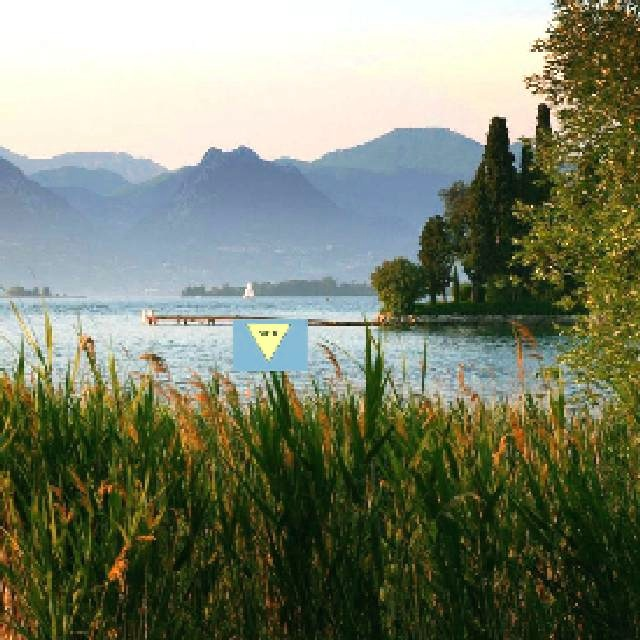YIELD: (244, 323, 289, 361)
